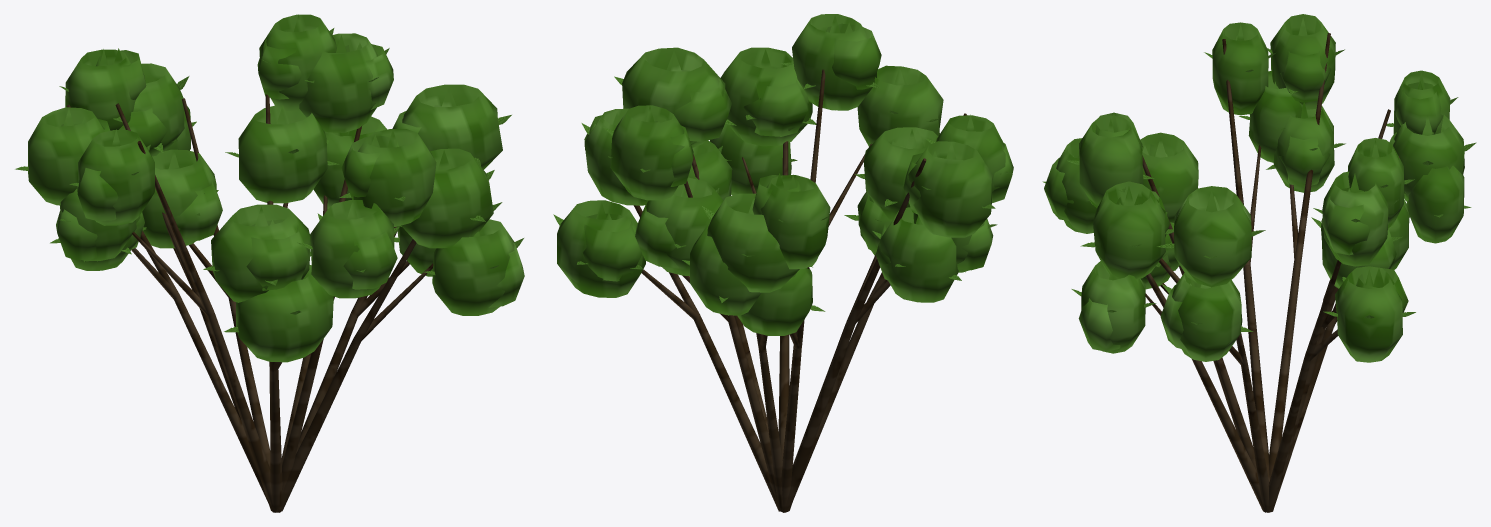
Rendered from filbert_big01-lod0.glb.
3 renders of one model, left to right at view 1: azimuth 30°, elevation 25°; view 2: azimuth 150°, elevation 25°; view 3: azimuth 270°, elevation 25°, orthographic. The views are drawn at different scales.
Parts seen in each view (by area): view 1: TZ_filbert_shrub_Batch_00_LOD0, TZ_filbert_shrub_Batch_02_LOD0, TZ_filbert_shrub_Batch_01_LOD0; view 2: TZ_filbert_shrub_Batch_00_LOD0, TZ_filbert_shrub_Batch_02_LOD0, TZ_filbert_shrub_Batch_01_LOD0; view 3: TZ_filbert_shrub_Batch_00_LOD0, TZ_filbert_shrub_Batch_02_LOD0, TZ_filbert_shrub_Batch_01_LOD0.
Boxes of the visible parts, x1=… form: TZ_filbert_shrub_Batch_00_LOD0: x1=28, y1=14, x2=524, y2=362; TZ_filbert_shrub_Batch_02_LOD0: x1=66, y1=94, x2=433, y2=512; TZ_filbert_shrub_Batch_01_LOD0: x1=15, y1=28, x2=523, y2=332; TZ_filbert_shrub_Batch_00_LOD0: x1=557, y1=14, x2=1013, y2=335; TZ_filbert_shrub_Batch_02_LOD0: x1=633, y1=69, x2=966, y2=512; TZ_filbert_shrub_Batch_01_LOD0: x1=553, y1=62, x2=1010, y2=311; TZ_filbert_shrub_Batch_00_LOD0: x1=1044, y1=14, x2=1464, y2=362; TZ_filbert_shrub_Batch_02_LOD0: x1=1129, y1=33, x2=1399, y2=512; TZ_filbert_shrub_Batch_01_LOD0: x1=1042, y1=48, x2=1476, y2=331.
Bounding box in the file's own units: 2.61 × 2.45 × 2.37.
Materials: 3 (3 with a texture image).
